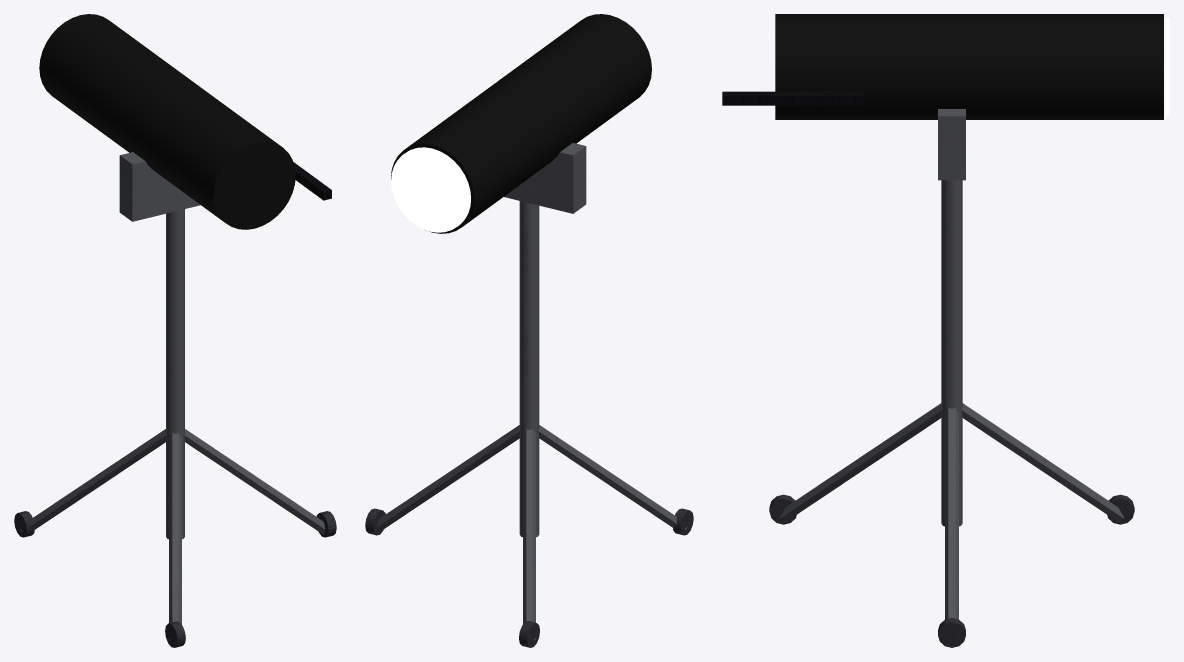
The model's file is followspot.gltf.
3 renders of one model, left to right at view 1: azimuth 30°, elevation 25°; view 2: azimuth 150°, elevation 25°; view 3: azimuth 270°, elevation 25°, orthographic. The views are drawn at different scales.
Parts seen in each view (by area): view 1: followspot; view 2: followspot; view 3: followspot.
Part boxes in pixels (x1,y1,x2,y2): followspot: [14, 14, 336, 647]; followspot: [365, 14, 693, 647]; followspot: [722, 14, 1169, 647].
Bounding box in the file's own units: 0.8573 × 1.7 × 1.27.
Materials: 5 (4 with a texture image).
